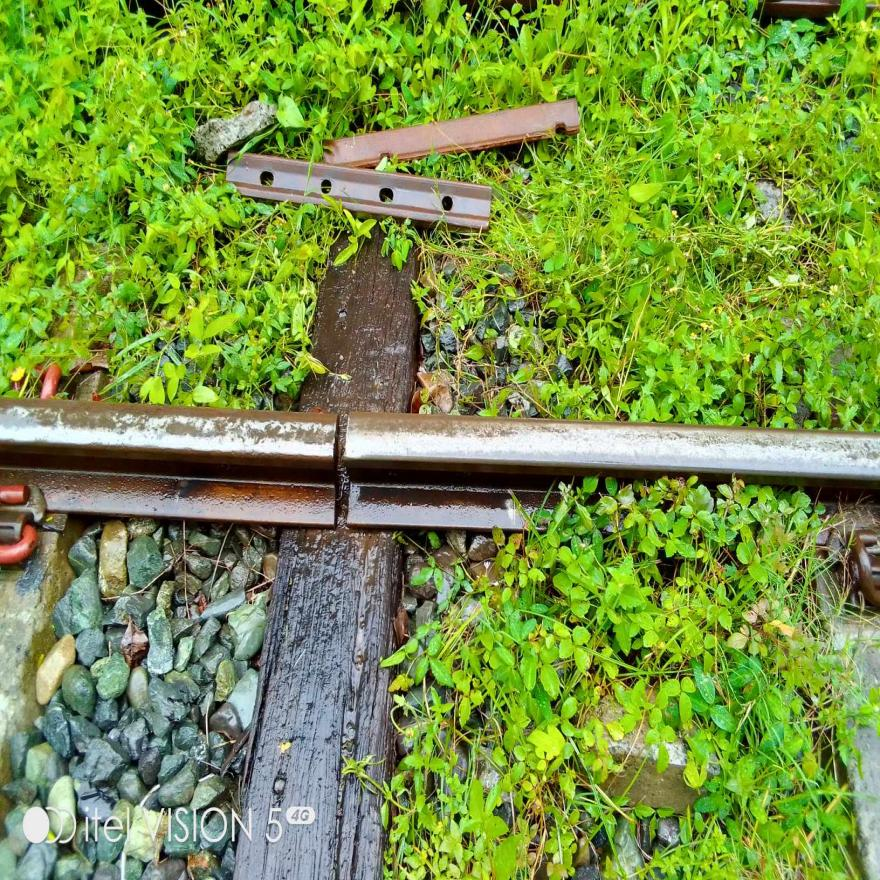railway-gap: (299, 386, 396, 549)
